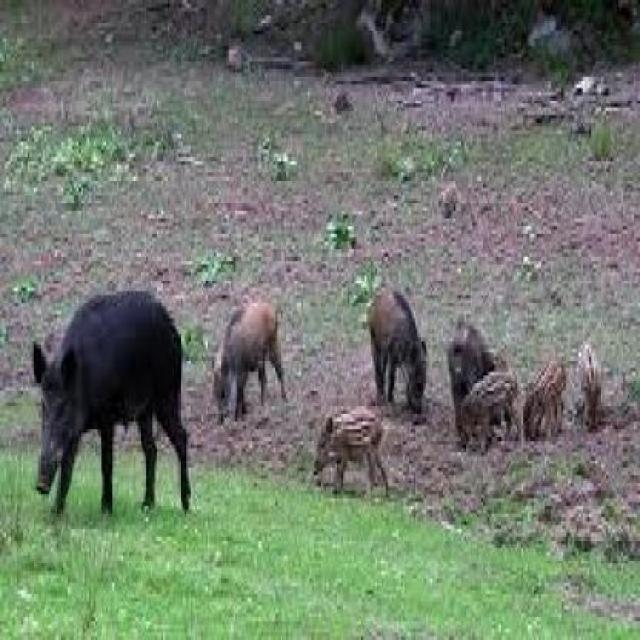wildboar: (29, 286, 192, 517), (210, 296, 288, 429), (365, 288, 430, 428), (313, 404, 392, 499), (446, 321, 511, 422), (458, 366, 522, 446), (524, 360, 568, 443), (577, 341, 605, 427)
